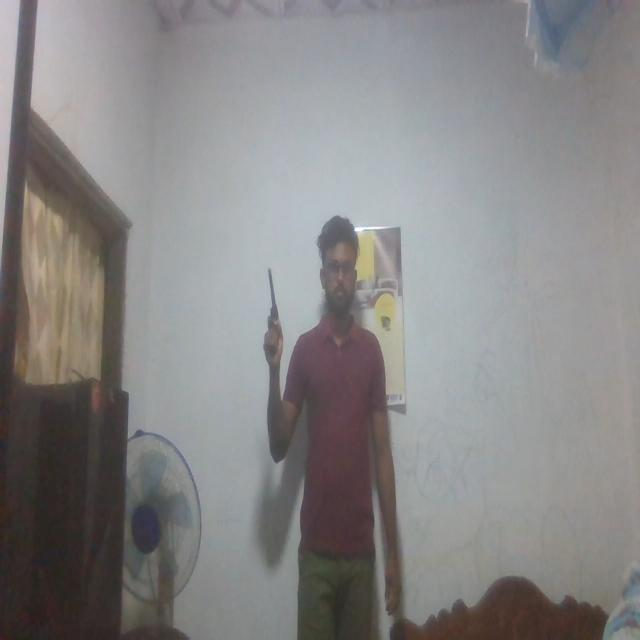Gun_Holder: (257, 265, 289, 360)
Person: (271, 216, 407, 640)
